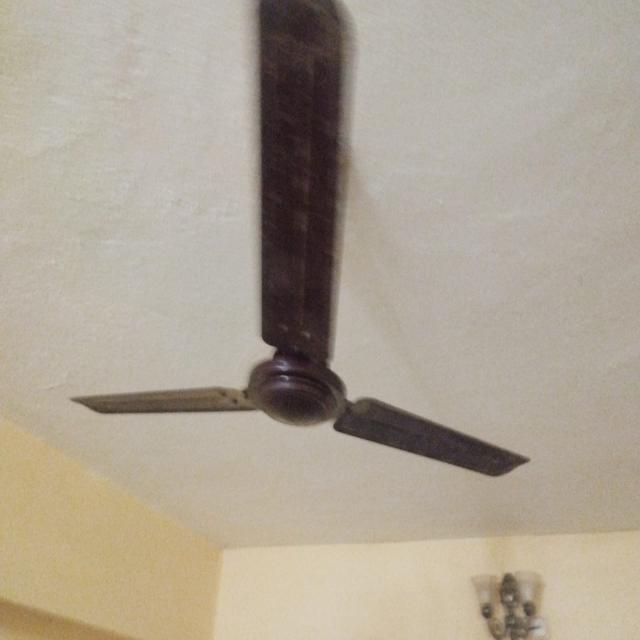fan_off: (66, 1, 529, 476)
